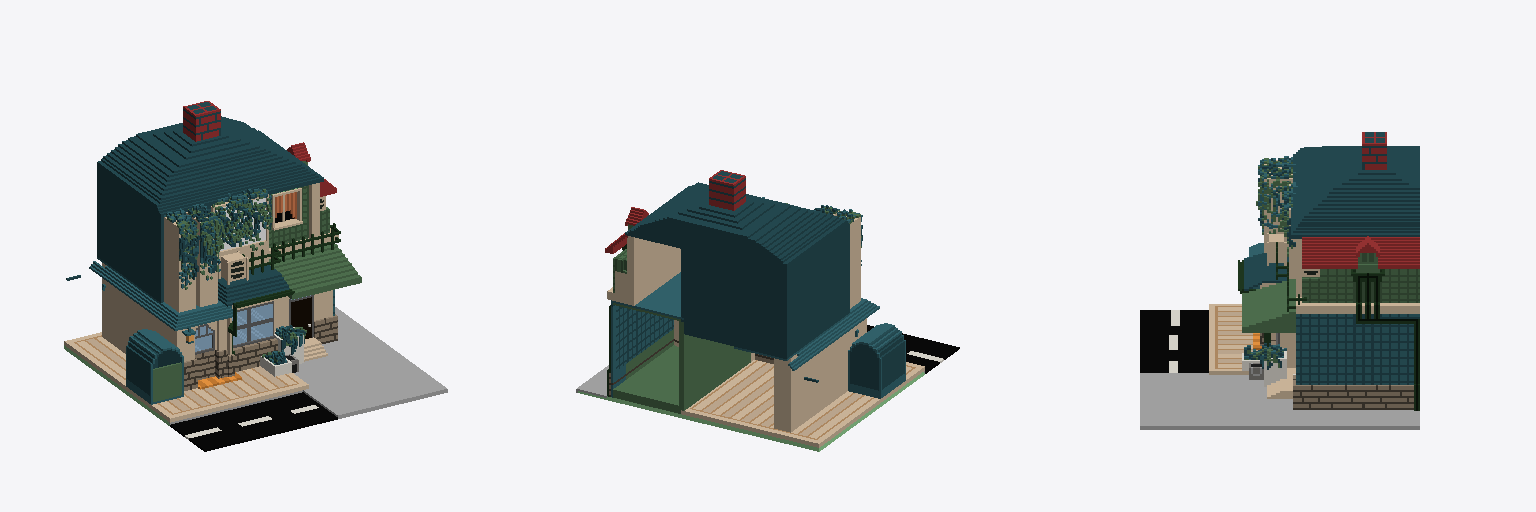
3 views of the same model, side by side, from view 1: azimuth 30°, elevation 25°; view 2: azimuth 150°, elevation 25°; view 3: azimuth 270°, elevation 25° (orthographic).
Parts seen in each view (by area): view 1: object 1; view 2: object 1; view 3: object 1.
Boxes of the visible parts, <box> form: object 1: <box>64,101,447,451</box>; object 1: <box>576,170,959,451</box>; object 1: <box>1140,132,1419,429</box>.
Bounding box in the file's own units: 12.6 × 11.4 × 12.6.
1 materials, 1 textured.